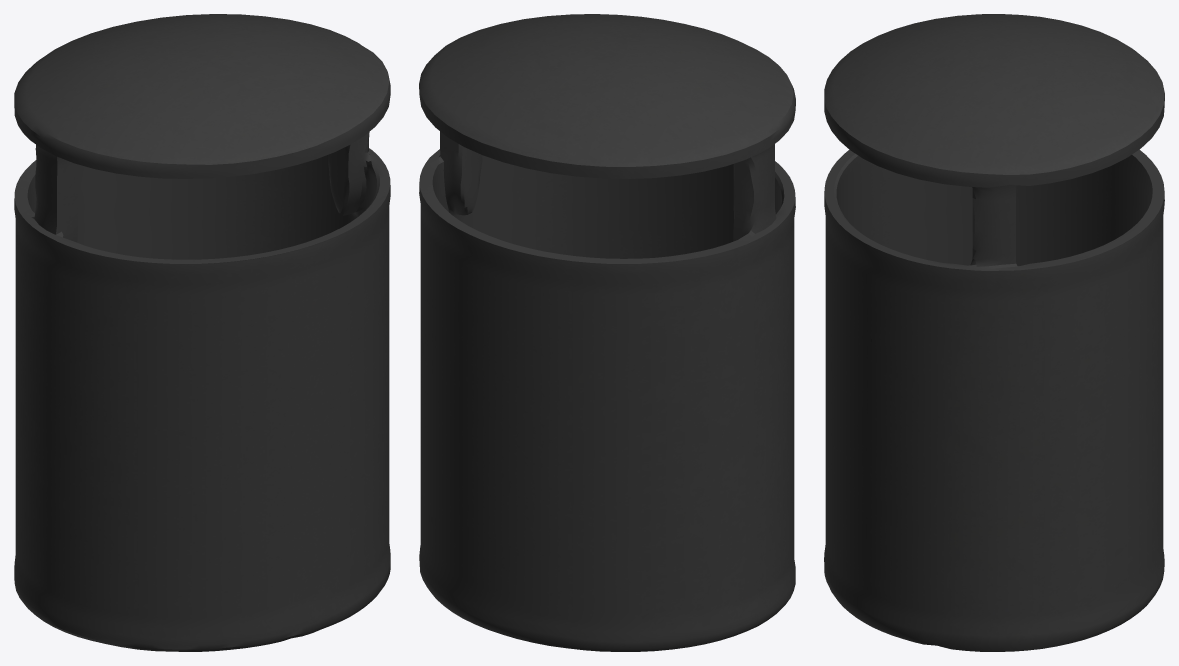
File: A10_WasteBin.fbx
3 renders of one model, left to right at view 1: azimuth 30°, elevation 25°; view 2: azimuth 150°, elevation 25°; view 3: azimuth 270°, elevation 25°, orthographic.
Parts seen in each view (by area): view 1: WasteBin; view 2: WasteBin; view 3: WasteBin.
Boxes of the visible parts, <box> form: WasteBin: <box>14,14,390,651</box>; WasteBin: <box>419,14,795,651</box>; WasteBin: <box>824,14,1164,651</box>.
Size of the model in its own units: 100 by 150 by 90.
Materials: 1 (1 with a texture image).
